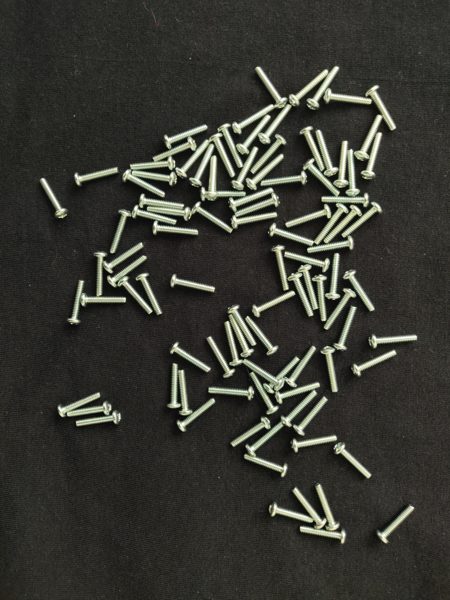longscrew: (375, 502, 417, 546), (289, 67, 331, 109), (322, 204, 364, 245), (331, 441, 374, 481), (340, 200, 384, 239), (365, 84, 400, 133), (290, 485, 328, 530), (306, 64, 342, 111), (249, 133, 289, 175), (313, 201, 350, 246), (322, 287, 358, 333), (263, 354, 303, 395), (246, 151, 287, 191), (342, 269, 378, 314), (280, 388, 320, 428), (245, 419, 286, 458), (175, 396, 217, 434), (293, 394, 331, 436), (175, 137, 212, 180), (37, 174, 70, 222), (242, 357, 287, 392), (253, 65, 288, 110), (284, 343, 318, 389), (237, 112, 273, 155), (258, 102, 294, 145), (232, 101, 277, 135), (302, 158, 342, 196), (190, 201, 236, 234), (204, 334, 237, 380), (244, 315, 280, 357), (313, 481, 342, 533), (354, 112, 384, 162), (102, 240, 146, 274), (168, 341, 213, 374), (225, 303, 258, 348), (117, 276, 154, 316), (248, 370, 280, 416), (350, 348, 399, 378), (229, 416, 273, 449), (287, 270, 317, 318), (107, 253, 149, 287), (207, 133, 237, 180), (134, 271, 165, 316), (298, 125, 327, 173), (216, 122, 245, 170), (241, 451, 290, 479), (162, 121, 209, 150), (56, 389, 103, 418), (227, 312, 256, 359), (231, 145, 260, 192), (228, 185, 276, 213), (252, 288, 298, 317), (333, 303, 359, 354), (121, 170, 168, 198), (188, 142, 216, 189), (107, 207, 134, 255), (234, 191, 282, 218), (274, 379, 323, 405), (152, 135, 199, 162), (266, 500, 316, 525), (266, 223, 316, 248), (314, 128, 339, 177), (360, 131, 384, 182), (285, 203, 333, 228), (73, 164, 122, 188), (283, 249, 332, 273), (318, 345, 341, 395), (296, 263, 320, 310), (167, 272, 218, 294), (223, 320, 246, 368), (289, 433, 339, 455), (130, 204, 179, 226), (298, 524, 349, 545), (65, 277, 86, 327), (306, 235, 357, 255), (270, 244, 291, 292), (367, 332, 420, 351), (324, 250, 343, 303), (230, 210, 280, 230), (75, 409, 122, 430), (131, 167, 179, 187), (261, 169, 309, 189), (321, 88, 373, 106), (66, 400, 114, 419), (136, 193, 186, 211), (311, 273, 329, 323), (130, 154, 177, 173), (177, 367, 194, 417), (206, 384, 256, 401), (321, 191, 371, 208), (151, 220, 200, 237), (91, 250, 108, 299), (165, 362, 182, 411), (198, 186, 248, 202), (78, 292, 128, 308), (346, 147, 362, 197), (334, 138, 350, 188), (146, 205, 193, 222), (204, 154, 220, 202)
